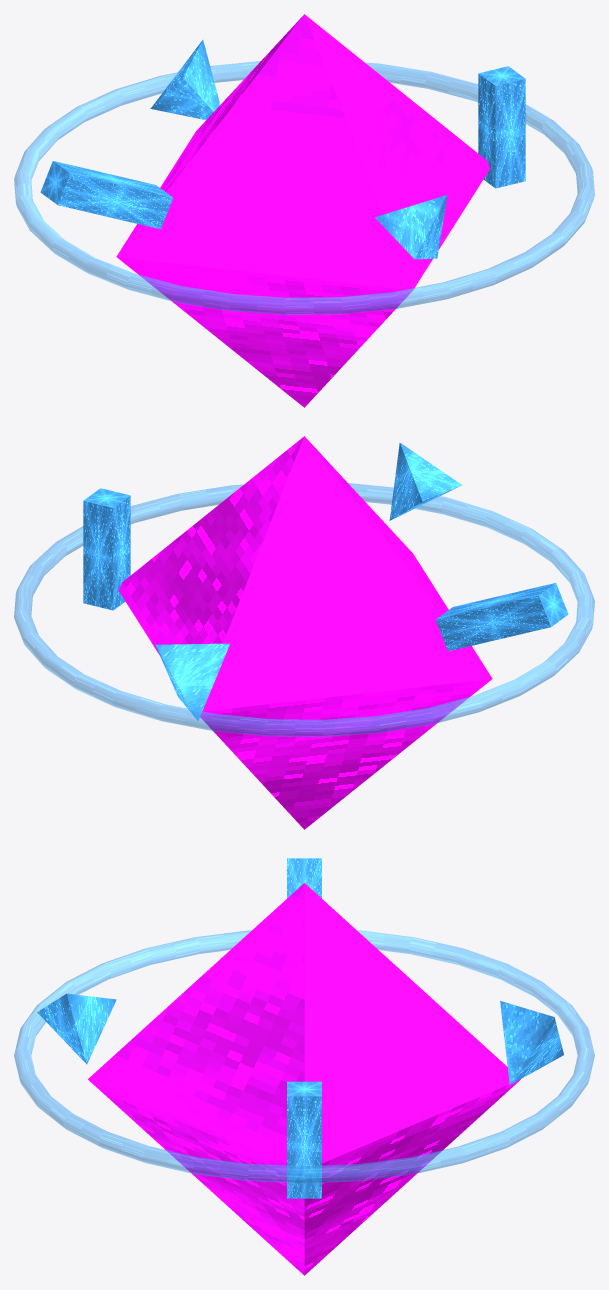
File: anomaly-cluster-magenta.glb
3 views of the same model, one above another, from view 1: azimuth 30°, elevation 25°; view 2: azimuth 150°, elevation 25°; view 3: azimuth 270°, elevation 25° (orthographic).
Visible parts, largest first — view 1: shell, ring, orbital-2, orbital-0, orbital-3, orbital-1; view 2: shell, ring, orbital-2, orbital-0, orbital-3, orbital-1; view 3: shell, ring, orbital-0, orbital-3, orbital-1, orbital-2.
Part boxes in pixels (x1,y1,x2,y2): shell: (116, 14, 489, 407); ring: (14, 61, 594, 314); orbital-2: (40, 161, 173, 229); orbital-0: (478, 66, 525, 188); orbital-3: (150, 40, 220, 119); orbital-1: (375, 195, 447, 259); shell: (119, 436, 492, 829); ring: (14, 483, 594, 736); orbital-2: (435, 583, 568, 651); orbital-0: (83, 488, 130, 610); orbital-3: (155, 643, 230, 720); orbital-1: (389, 442, 461, 520); shell: (88, 883, 520, 1275); ring: (14, 930, 594, 1183); orbital-0: (287, 1081, 321, 1198); orbital-3: (500, 1001, 563, 1084); orbital-1: (37, 993, 116, 1064); orbital-2: (287, 858, 321, 898).
Size of the model in its own units: 2.7 by 2 by 2.68.
3 materials, 3 textured.
